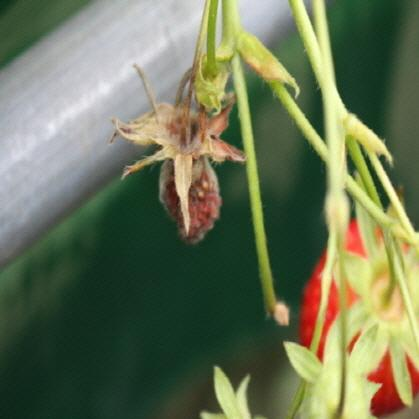Gray Mold: (108, 63, 247, 246)
